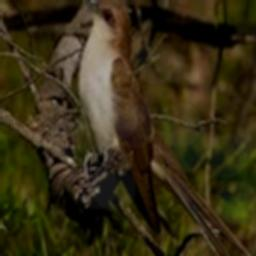Cuckoo: (74, 0, 162, 233)
